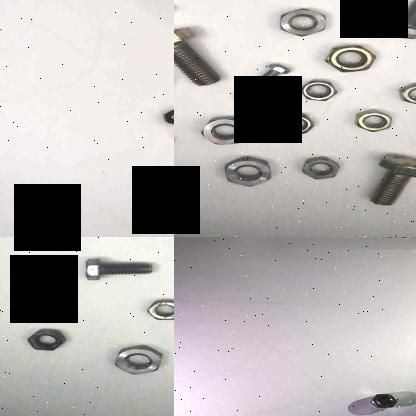Bolts: (174, 26, 225, 85), (75, 251, 164, 281), (368, 154, 416, 206), (379, 0, 416, 46)
NUTS: (110, 338, 172, 380), (270, 2, 336, 38), (222, 154, 280, 187), (198, 114, 256, 147), (326, 39, 380, 73), (21, 321, 71, 354), (292, 74, 340, 102), (352, 106, 402, 132), (273, 110, 321, 136), (300, 152, 340, 182), (136, 290, 174, 320), (369, 389, 399, 409), (394, 78, 416, 105), (162, 107, 174, 125)
